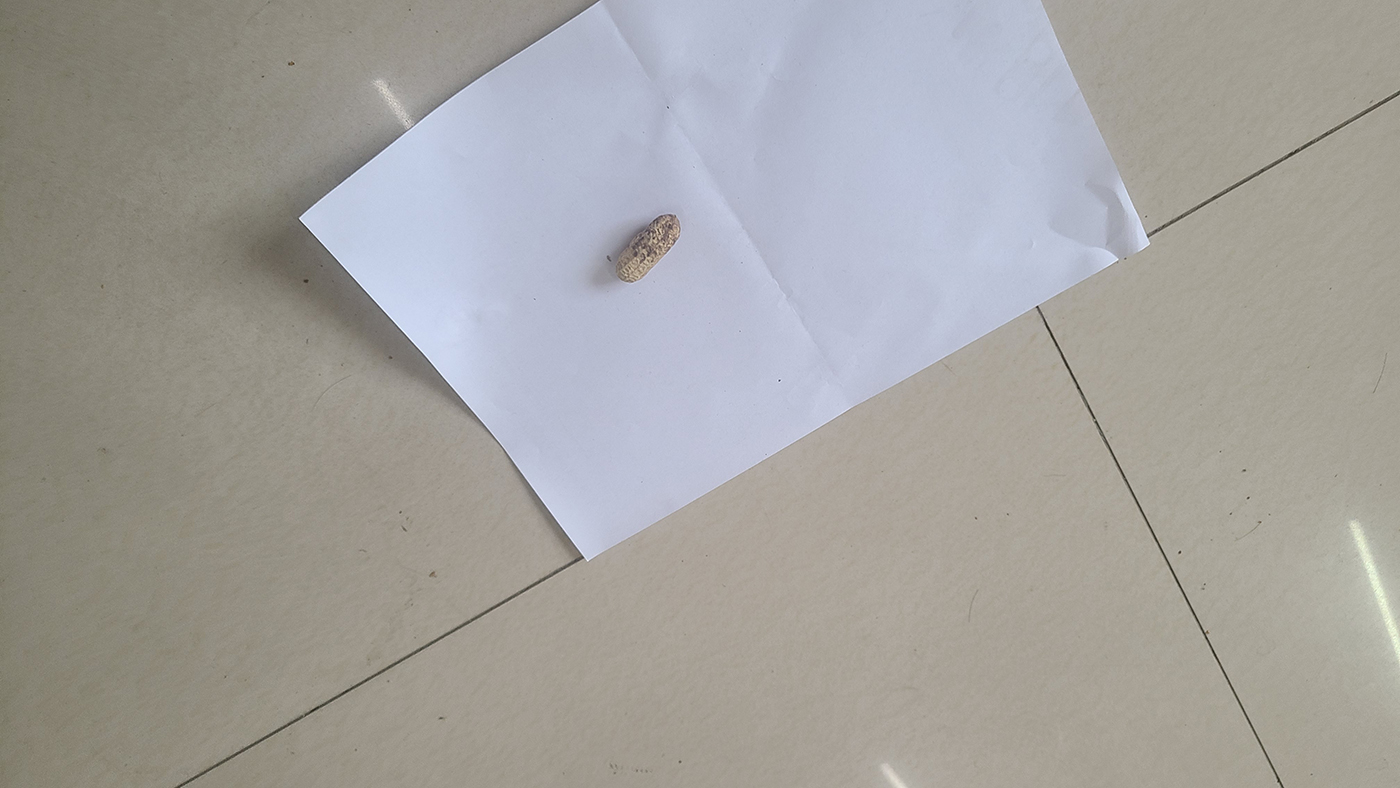h: (614, 213, 682, 282)
